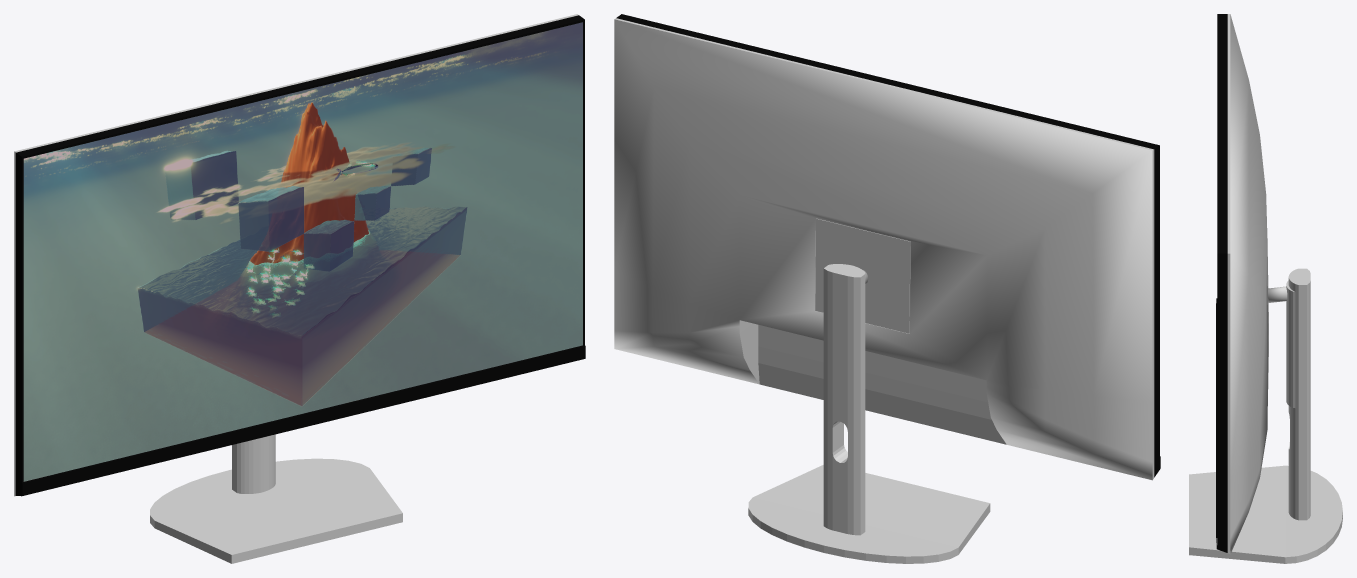
File: Monitor.fbx
3 views of the same model, side by side, from view 1: azimuth 30°, elevation 25°; view 2: azimuth 150°, elevation 25°; view 3: azimuth 270°, elevation 25° (orthographic). The views are drawn at different scales.
Parts seen in each view (by area): view 1: Monitor Display, Monitor Base, Monitor Stand; view 2: Monitor Display, Monitor Base, Monitor Stand; view 3: Monitor Display, Monitor Base, Monitor Stand, Monitor Connector.
Boxes of the visible parts, x1,y1,x2,y2 form: Monitor Display: (14,14,585,496); Monitor Base: (150,458,402,563); Monitor Stand: (232,434,275,493); Monitor Display: (614,14,1160,480); Monitor Base: (748,465,990,563); Monitor Stand: (823,264,865,535); Monitor Display: (1216,14,1268,554); Monitor Base: (1189,465,1342,563); Monitor Stand: (1286,268,1310,520); Monitor Connector: (1268,286,1287,302).
Bounding box in the file's own units: 186 × 140 × 50.58.
